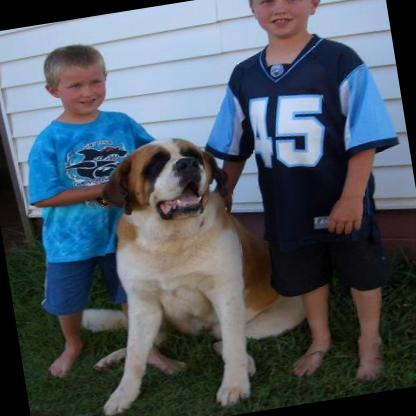Saint_Bernard: (57, 118, 321, 416)
